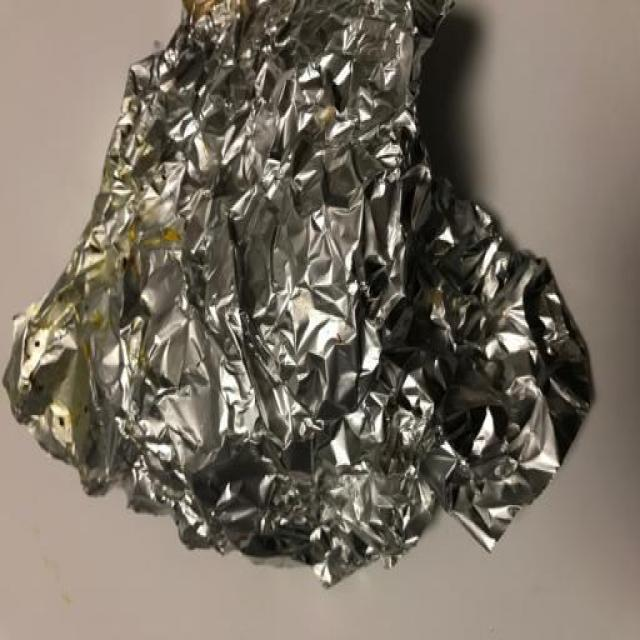others: (1, 1, 599, 613)
